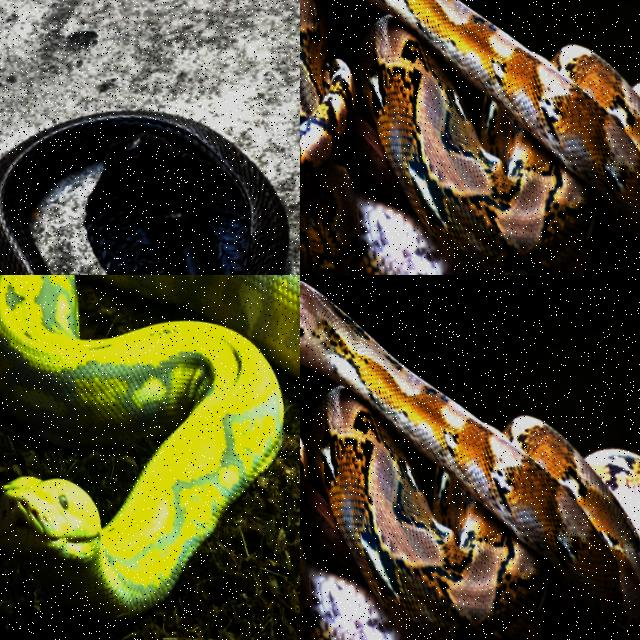Malayopython reticulatus: (300, 282, 639, 639), (0, 275, 299, 618), (300, 0, 639, 274)
Naja kaouthia: (0, 112, 287, 274)
